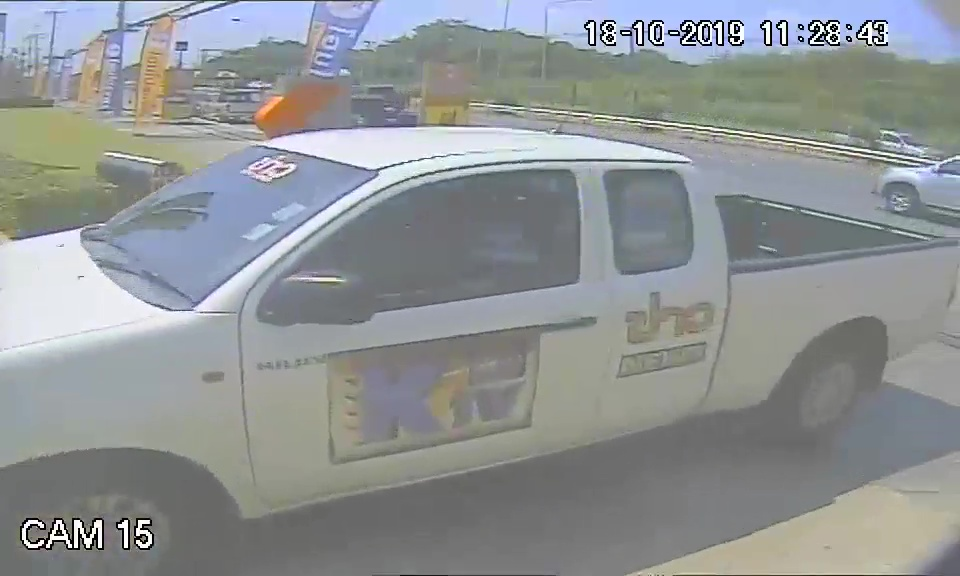pickup: (3, 123, 863, 522)
